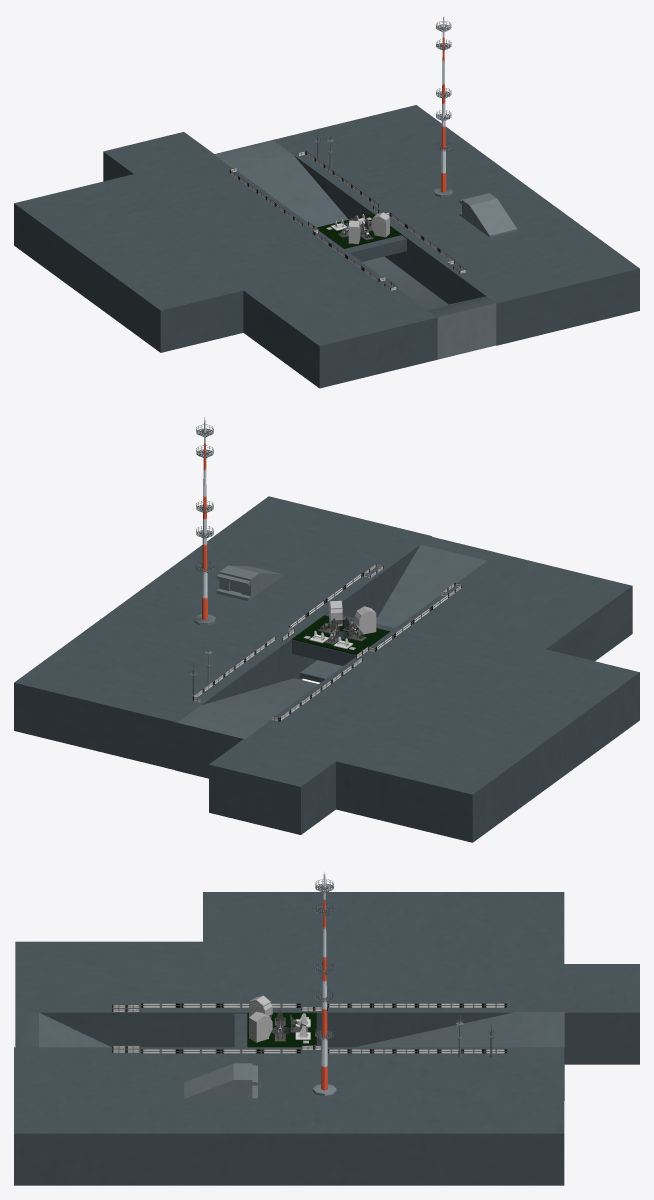
File: 발사장소.fbx
The picture shows the model from 3 angles, top to bottom: view 1: azimuth 30°, elevation 25°; view 2: azimuth 150°, elevation 25°; view 3: azimuth 270°, elevation 25°; orthographic projection. The views are drawn at different scales.
Visible parts, largest first — view 1: Cube_2_2, Cube_1_2, 경사면1, 경사면2, Gate, mesh_id6, Tower_L, 나로호_아래_바닥, 나로호_아래_바닥_, Cube_3_3; view 2: Cube_2_2, Cube_1_2, 경사면1, 경사면2, mesh_id6, Tower_L, Gate, 나로호_아래_바닥_, 나로호_아래_바닥, Cube_3_3, Cube_2_4.001; view 3: Cube_1_2, Cube_2_2, 경사면1, mesh_id6, Gate, 경사면2, Tower_L, 나로호_아래_바닥_, Cube_3_3, 나로호_아래_바닥, Cube_2_4.001.
Boxes of the visible parts, <box> form: Cube_2_2: <box>14,132,437,388</box>; Cube_1_2: <box>273,105,639,345</box>; 경사면1: <box>213,140,348,227</box>; 경사면2: <box>362,256,495,359</box>; Gate: <box>459,193,517,237</box>; mesh_id6: <box>229,151,466,290</box>; Tower_L: <box>434,16,452,197</box>; 나로호_아래_바닥: <box>344,230,406,261</box>; 나로호_아래_바닥_: <box>317,213,401,248</box>; Cube_3_3: <box>348,212,389,243</box>; Cube_2_2: <box>209,553,639,842</box>; Cube_1_2: <box>14,496,432,769</box>; 경사면1: <box>175,678,318,778</box>; 경사면2: <box>300,536,497,682</box>; mesh_id6: <box>192,563,461,721</box>; Tower_L: <box>194,417,215,625</box>; Gate: <box>216,565,282,600</box>; 나로호_아래_바닥_: <box>292,615,390,654</box>; 나로호_아래_바닥: <box>292,613,394,665</box>; Cube_3_3: <box>329,600,376,634</box>; Cube_2_4.001: <box>317,617,366,644</box>; Cube_1_2: <box>14,1047,564,1185</box>; Cube_2_2: <box>15,892,639,1064</box>; 경사면1: <box>356,1012,564,1100</box>; mesh_id6: <box>111,1003,507,1053</box>; Gate: <box>184,1063,257,1101</box>; 경사면2: <box>15,1012,110,1047</box>; Tower_L: <box>312,871,336,1096</box>; 나로호_아래_바닥_: <box>247,1012,316,1047</box>; Cube_3_3: <box>249,995,272,1042</box>; 나로호_아래_바닥: <box>234,1013,290,1047</box>; Cube_2_4.001: <box>269,1010,308,1041</box>.
Size of the model in its own units: 13936 by 15248 by 7319.
3 materials, 2 textured.
